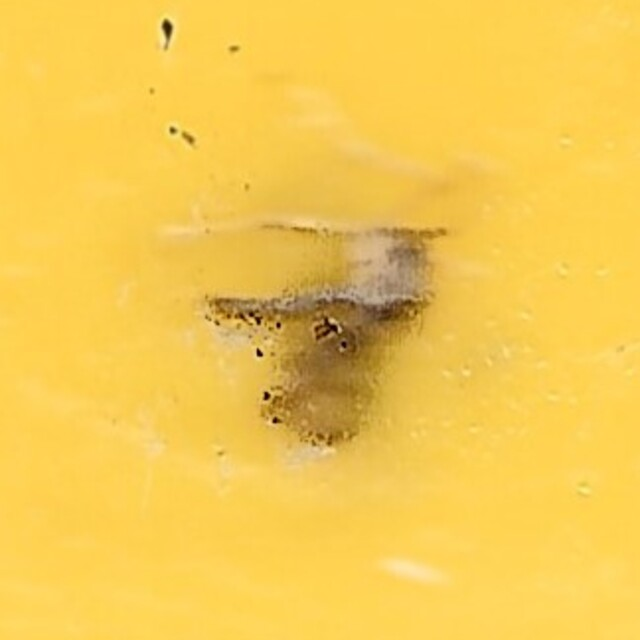Nematocera: (198, 208, 442, 432)
